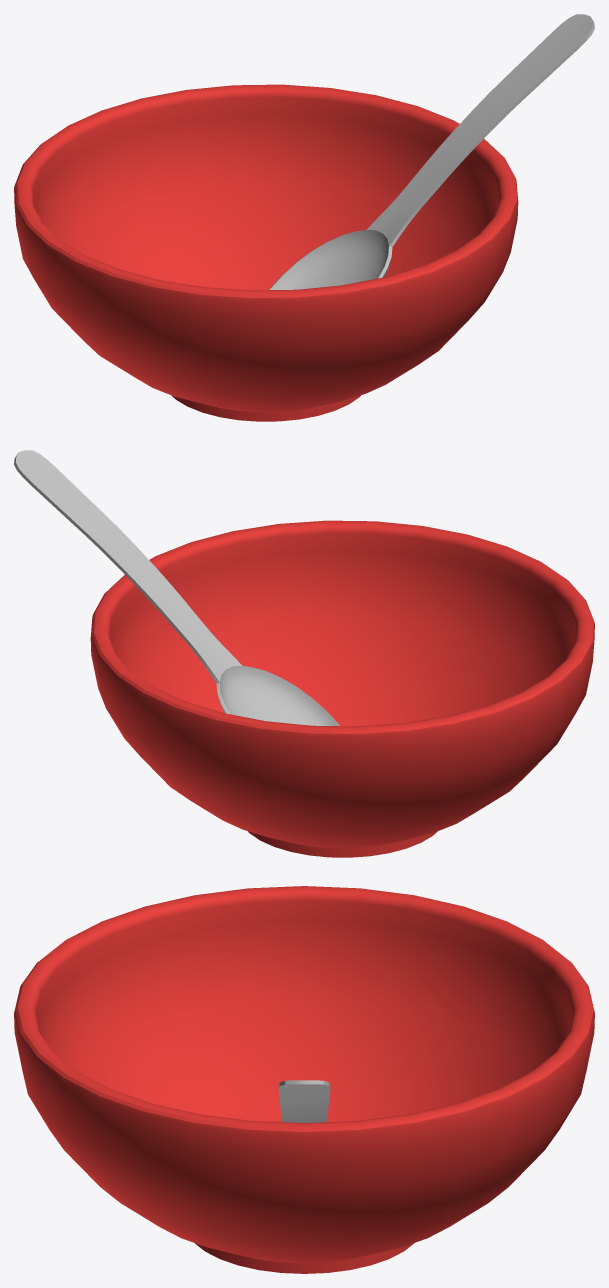
The model's file is bowl_with_spoon.fbx.
3 renders of one model, top to bottom at view 1: azimuth 30°, elevation 25°; view 2: azimuth 150°, elevation 25°; view 3: azimuth 270°, elevation 25°, orthographic. The views are drawn at different scales.
Parts seen in each view (by area): view 1: Sphere.490; view 2: Sphere.490; view 3: Sphere.490.
Boxes of the visible parts, x1,y1,x2,y2 form: Sphere.490: (14, 14, 594, 421); Sphere.490: (14, 450, 594, 857); Sphere.490: (14, 886, 594, 1273).
Bounding box in the file's own units: 231 × 115 × 186.
Materials: 1 (1 with a texture image).
